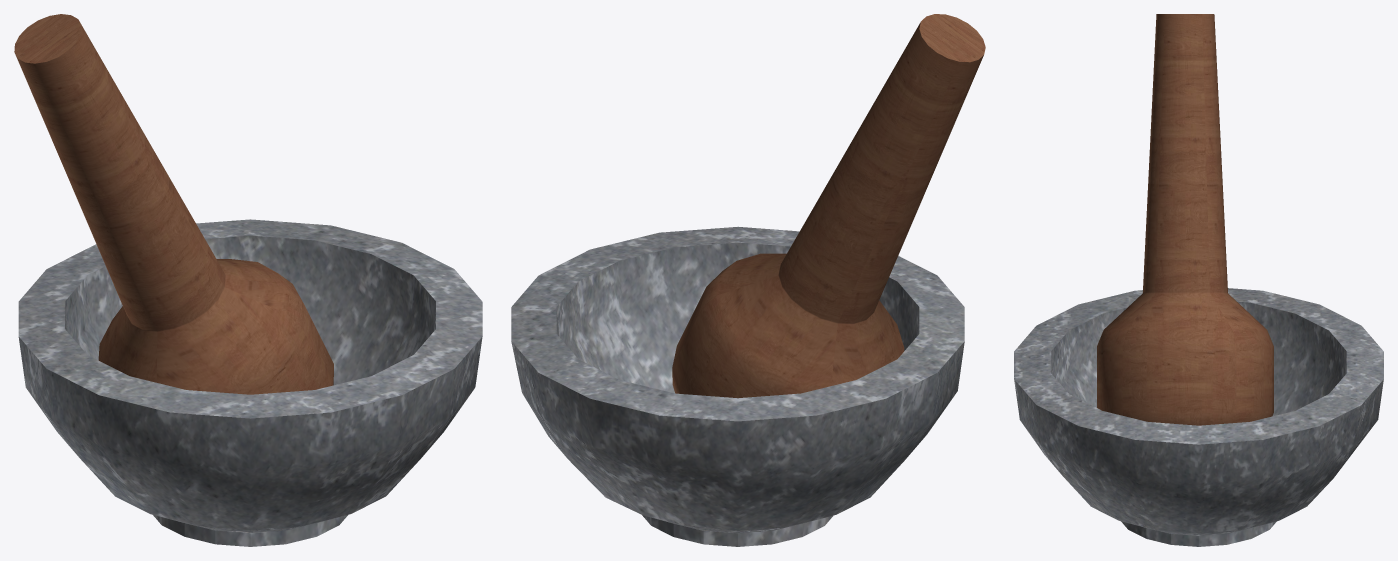
Rendered from shimo_1.glb.
The picture shows the model from 3 angles, left to right: view 1: azimuth 30°, elevation 25°; view 2: azimuth 150°, elevation 25°; view 3: azimuth 270°, elevation 25°; orthographic projection. The views are drawn at different scales.
Visible parts, largest first — view 1: Asset3DLoader.sceneRoot; view 2: Asset3DLoader.sceneRoot; view 3: Asset3DLoader.sceneRoot.
Part boxes in pixels (x1=…): Asset3DLoader.sceneRoot: x1=14, y1=14, x2=482, y2=546; Asset3DLoader.sceneRoot: x1=511, y1=14, x2=985, y2=546; Asset3DLoader.sceneRoot: x1=1014, y1=14, x2=1383, y2=546.
Size of the model in its own units: 28.33 by 32.74 by 25.67.
2 materials, 2 textured.
